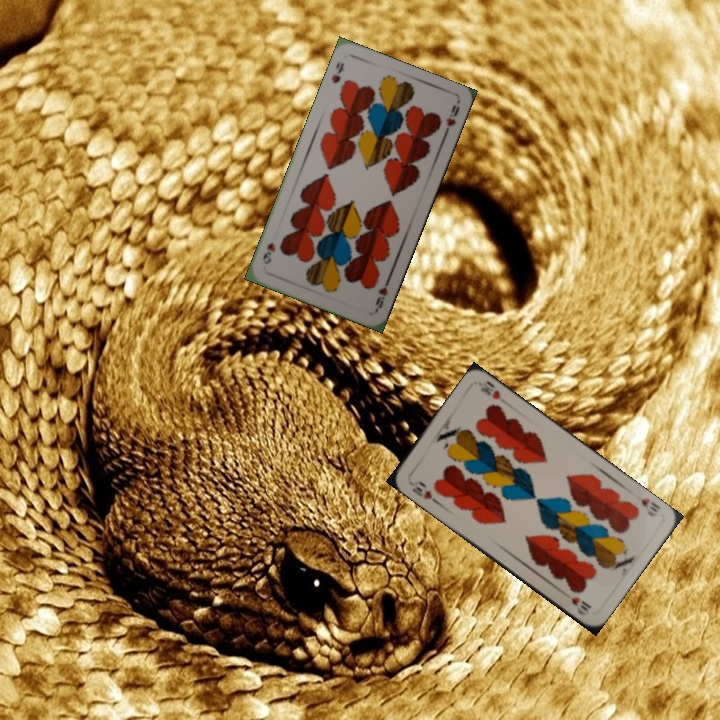H10: (404, 476, 440, 505), (636, 494, 664, 519)
H9: (371, 274, 393, 313), (327, 57, 347, 86)
